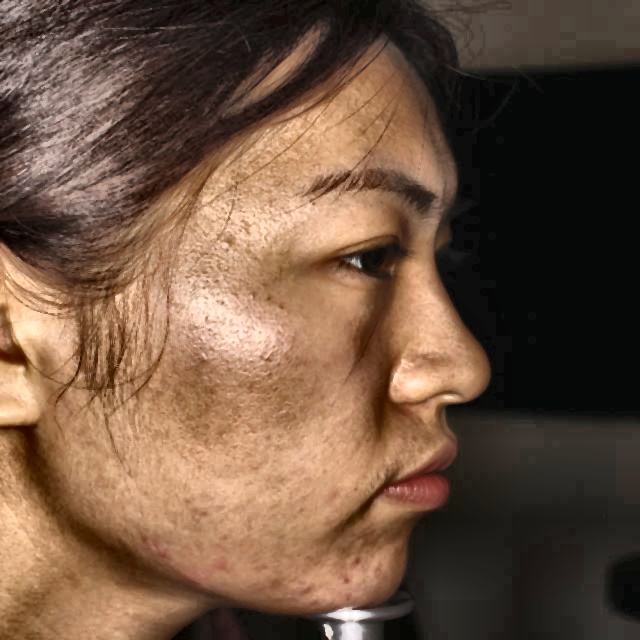pustule: (150, 532, 172, 568), (210, 554, 232, 582), (184, 566, 200, 591), (300, 576, 312, 596)
